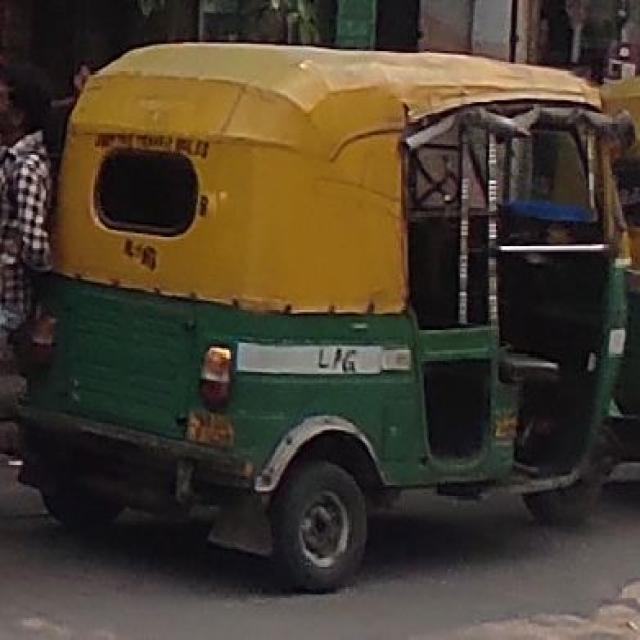autorickshaw: (26, 38, 635, 591)
